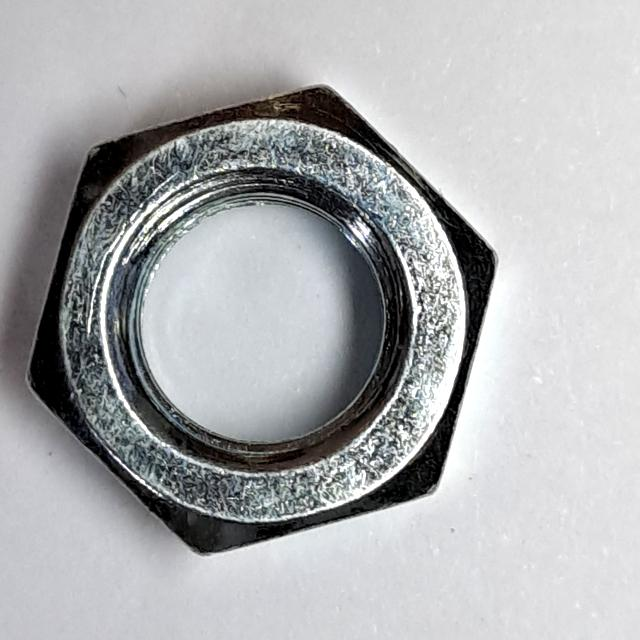Excellent: (15, 77, 511, 569)
